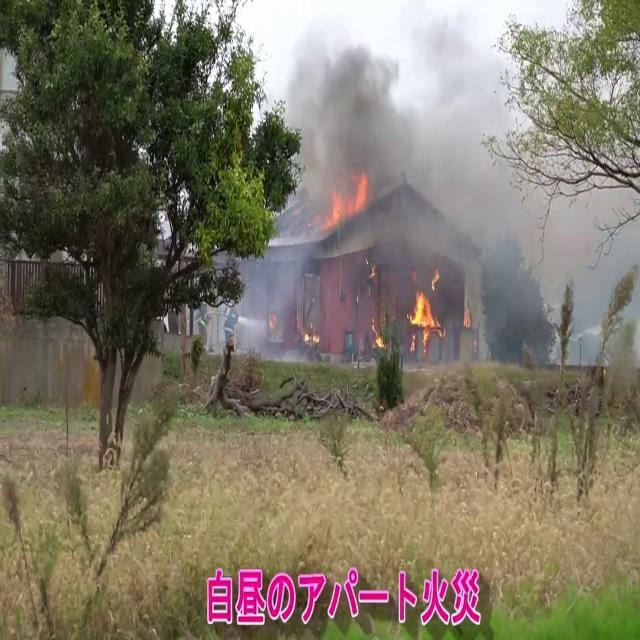Fire: (321, 165, 373, 227), (408, 270, 444, 348)
Smoke: (262, 12, 533, 328)
